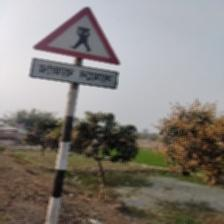Market-in-front: (30, 4, 122, 91)
